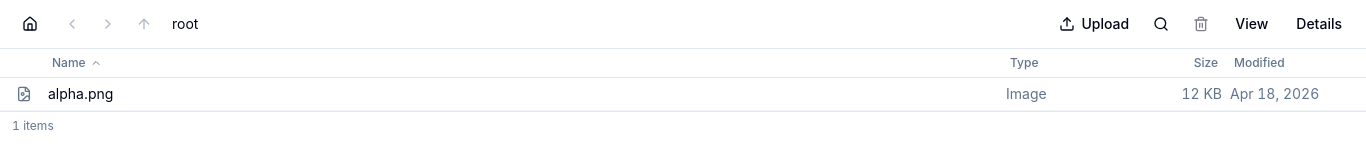
Test case: FileExplorer — search UI (Phase 7.1) › toolbar surfaces a Search control that opens a focused input
Expected: the number of rows with test id "explorer-row" is 1, [0,78,1365,111]
Activating it reveals a searchbox and focuses it.
Click the button with test id "file-explorer-search-trigger". click: (1161, 24)
box: [1143,8,1179,40]
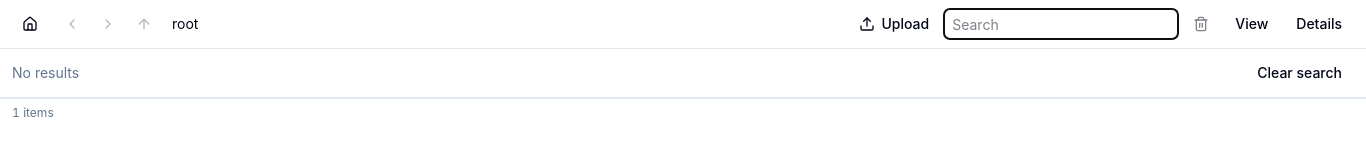
Expected: the search field is shown, [943,8,1179,40]
